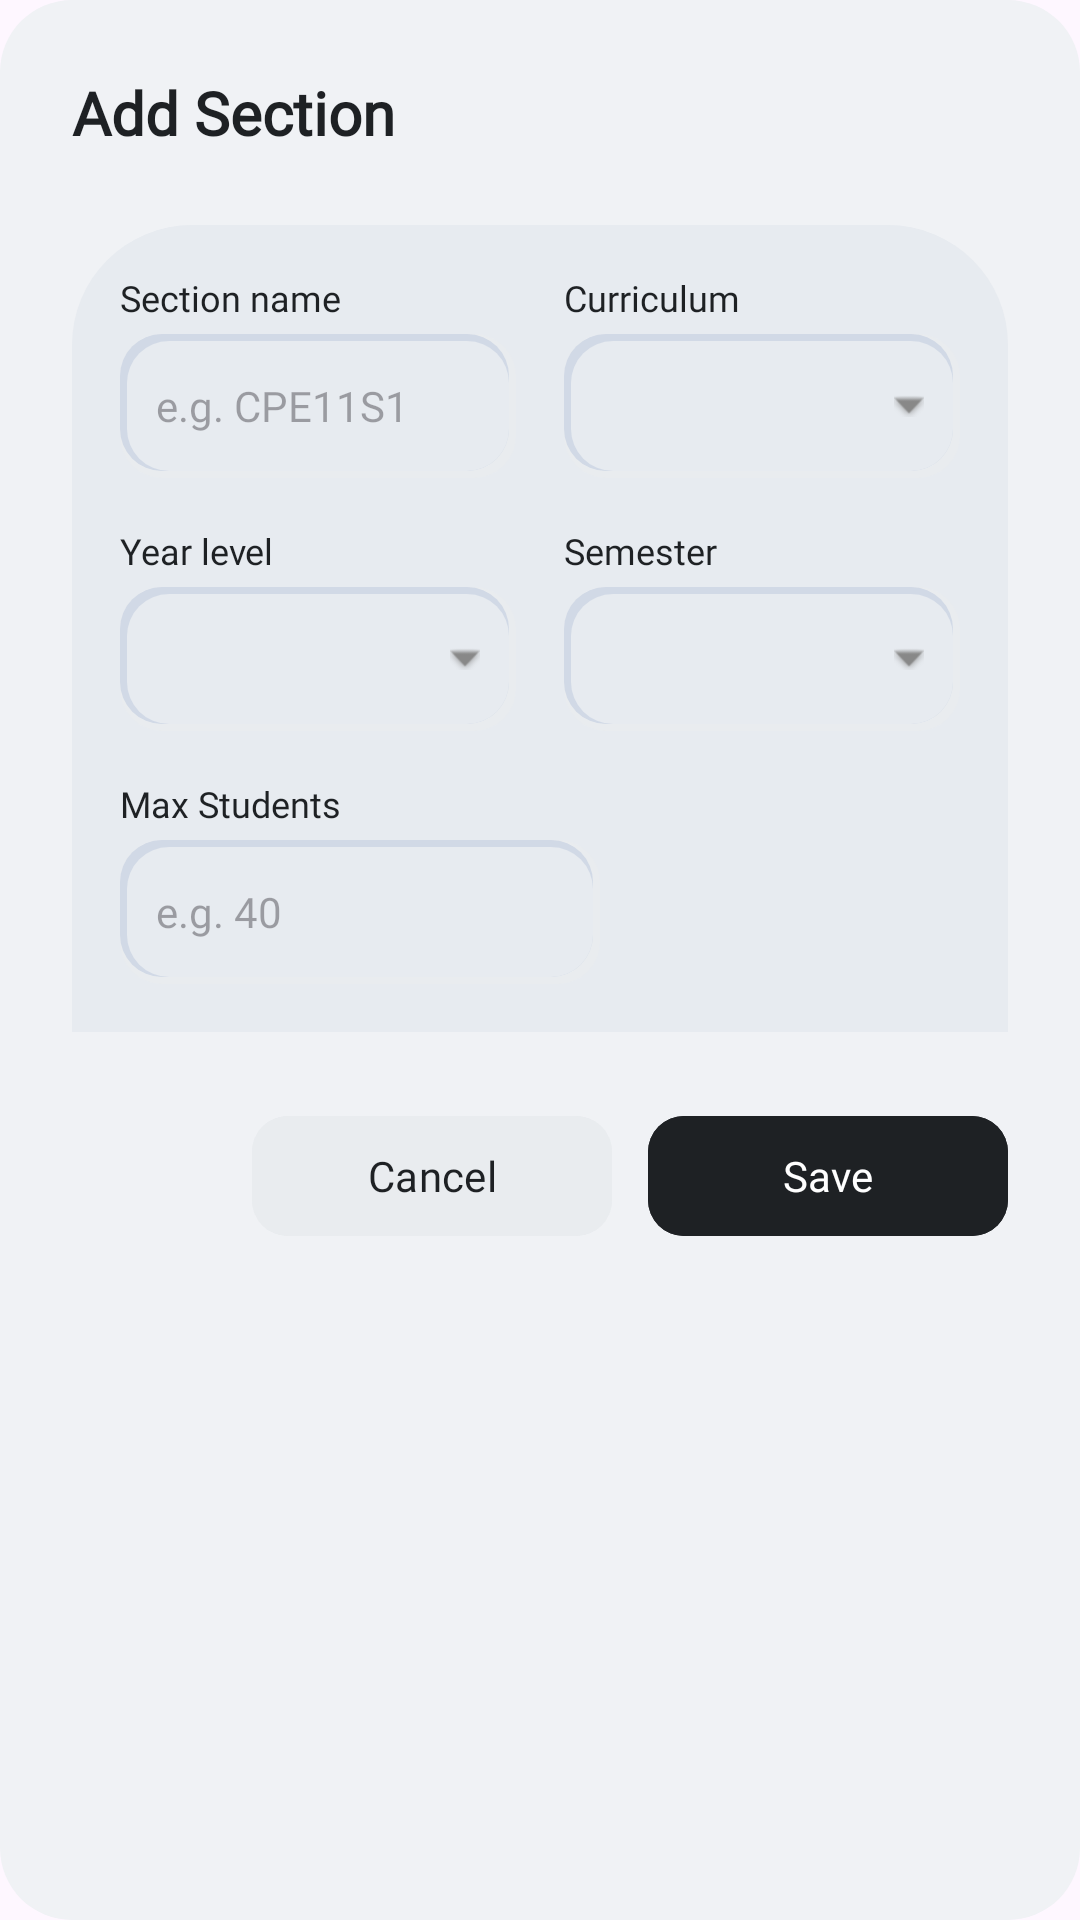

Where to tap for icons on this 1080 x 1920 app screen, as (x,y):
arrow down float: (909,405), (465,658), (909,658)
